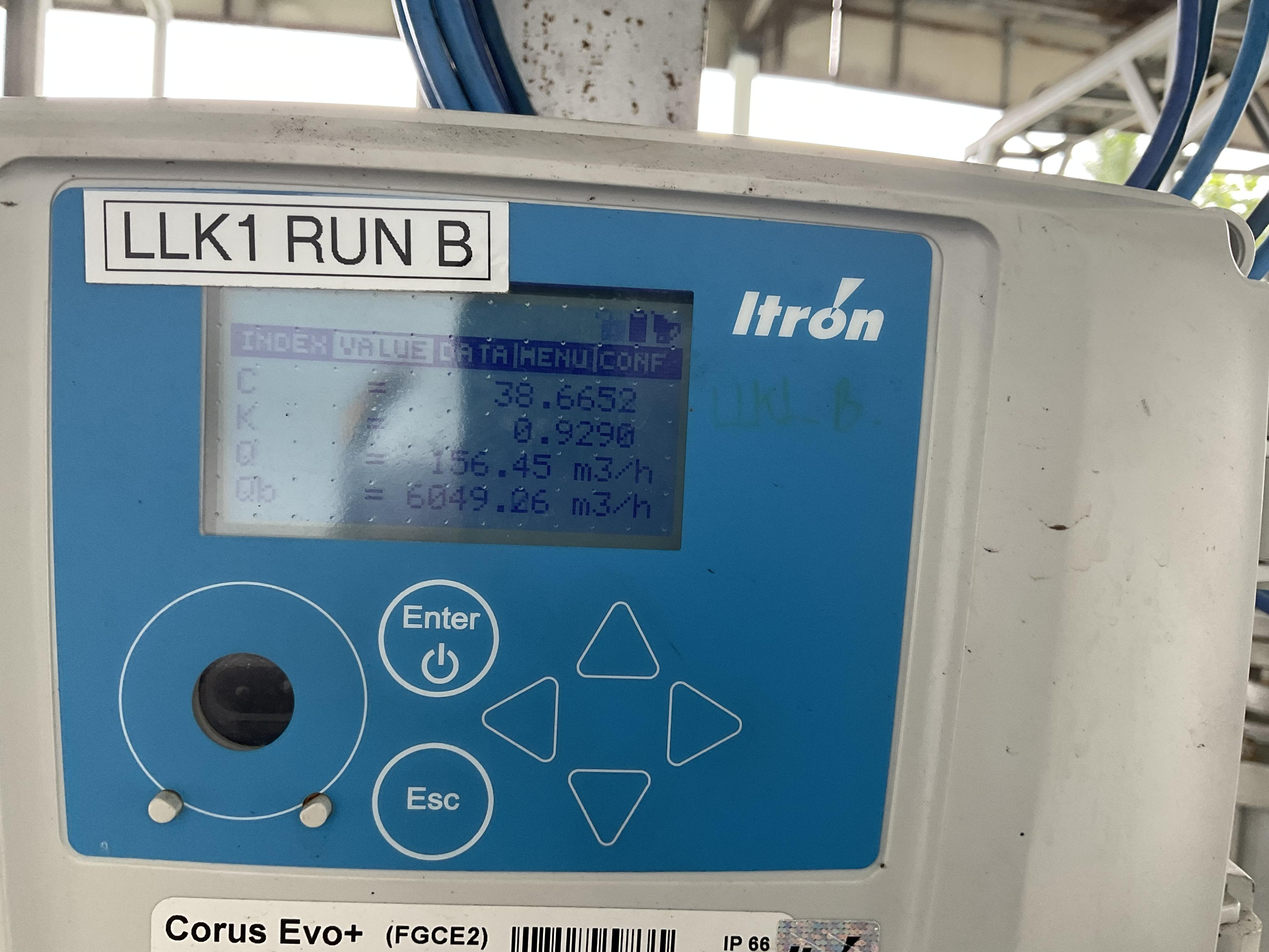digital_screen: (197, 273, 694, 550)
